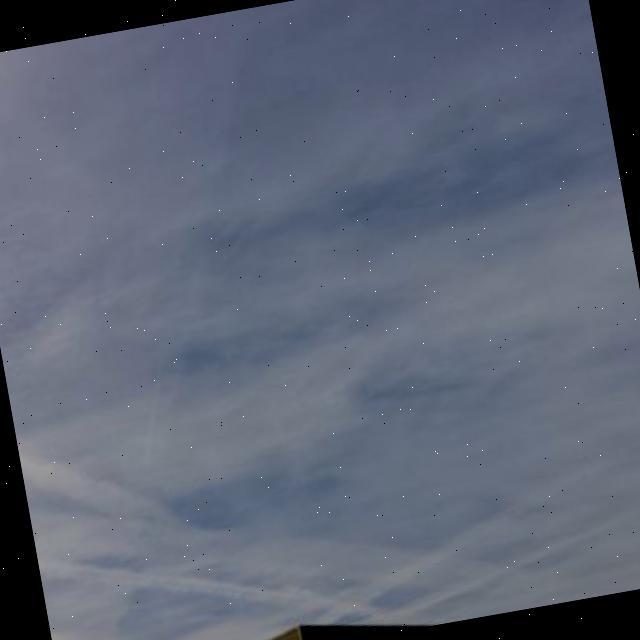Ct: (1, 1, 640, 593)
